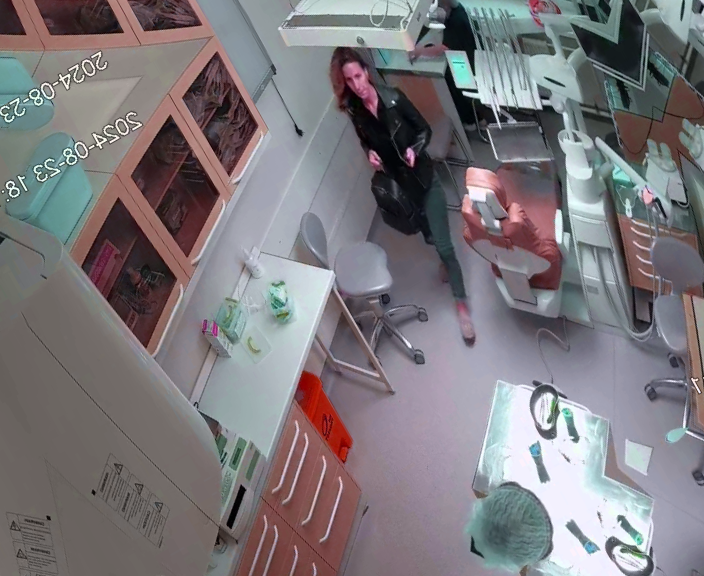Empty: (433, 129, 623, 339)
